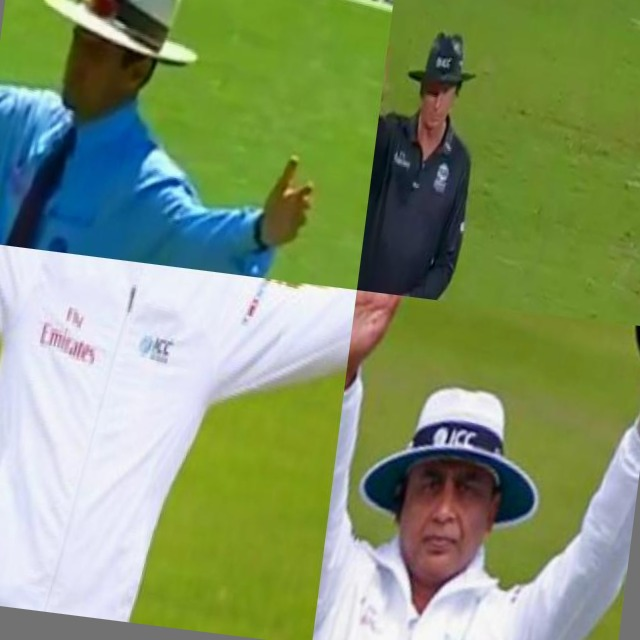Out: (357, 4, 527, 307)
Six: (312, 290, 640, 640)
Wide: (0, 242, 357, 640), (0, 0, 374, 287)
